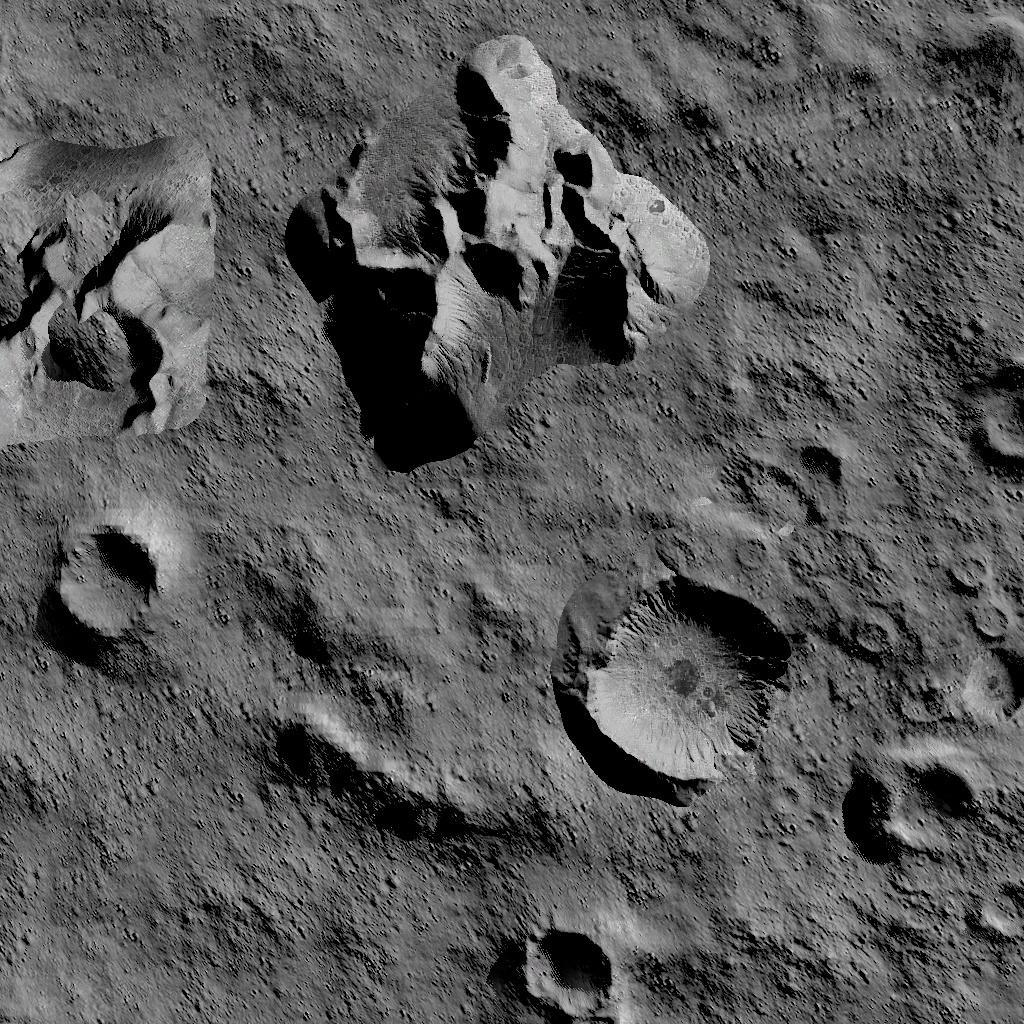Boulders: (285, 38, 713, 478), (0, 124, 227, 452), (265, 704, 521, 840), (245, 525, 433, 682), (901, 0, 1024, 101)
Crater: (548, 558, 800, 808), (25, 494, 187, 670), (846, 746, 1000, 864), (507, 906, 633, 1024), (943, 348, 1024, 502), (947, 632, 1024, 727), (963, 872, 1024, 942)
Plan surface: (11, 854, 483, 1024), (739, 120, 1024, 310), (8, 680, 251, 840), (13, 2, 251, 109)
